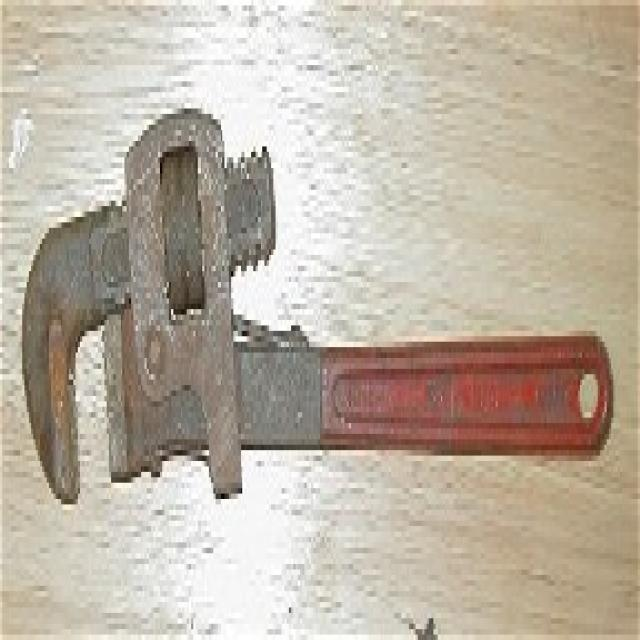wrench: (15, 101, 620, 511)
